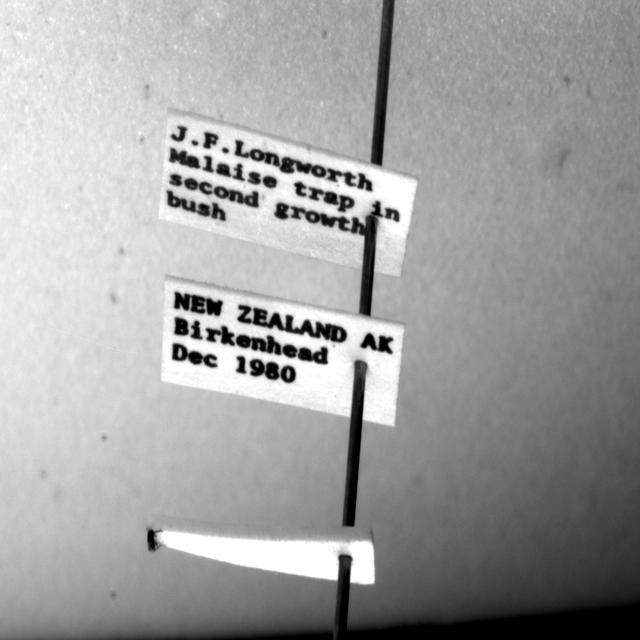typed_label: (159, 111, 418, 276), (161, 278, 405, 426)
